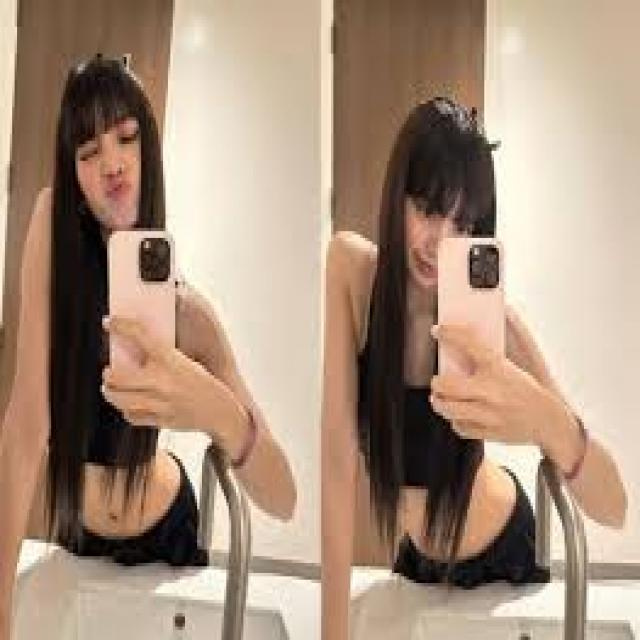Phone: (107, 225, 180, 368), (436, 237, 510, 376)
